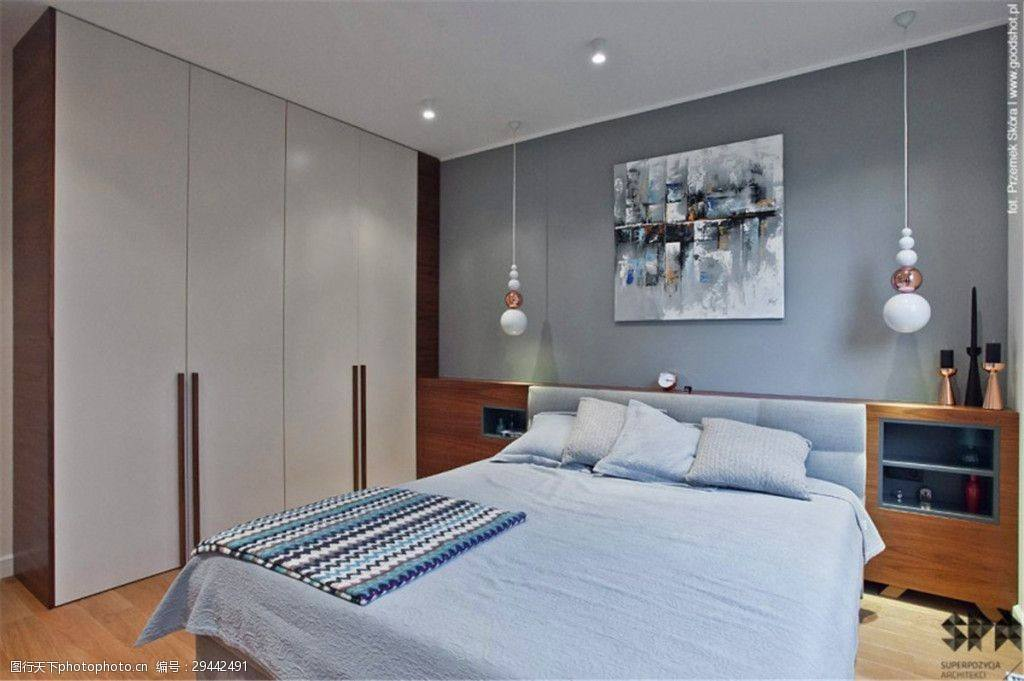床: (154, 456, 885, 681)
枕头: (503, 404, 812, 498)
灯: (886, 10, 936, 335), (501, 118, 528, 346), (585, 45, 614, 73), (414, 103, 439, 126)
